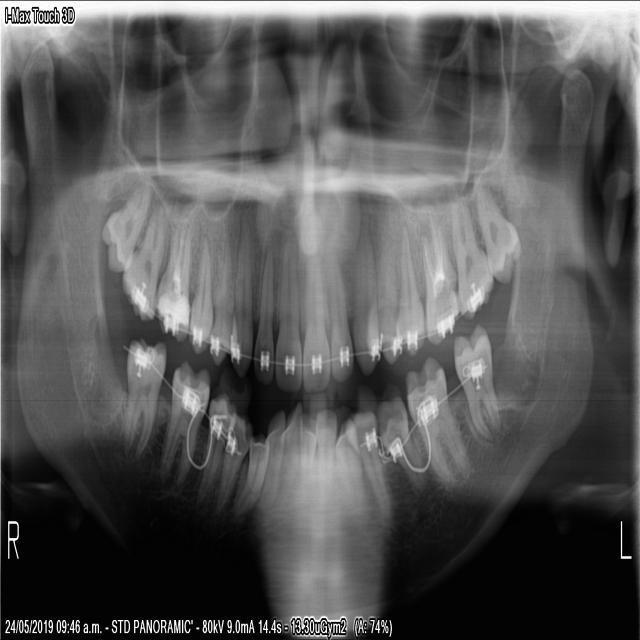LCU: (350, 224, 381, 378)
LID: (313, 402, 336, 521)
LIU: (300, 218, 331, 395), (271, 225, 301, 396), (326, 230, 353, 386), (251, 229, 273, 387)
LMD: (402, 349, 474, 493), (451, 317, 501, 443)
LMU: (418, 194, 460, 349), (449, 186, 494, 322), (472, 176, 522, 288)
LPMD: (375, 389, 427, 497)
LPMU: (361, 199, 404, 367), (388, 208, 426, 362)
RCU: (228, 207, 251, 384), (185, 218, 212, 355)
RMD: (155, 354, 211, 489), (120, 332, 167, 463)
RMU: (120, 196, 171, 324), (150, 199, 192, 345), (98, 174, 154, 275)
RPMD: (191, 389, 237, 513), (212, 406, 254, 517)
RPMU: (206, 213, 238, 367)
